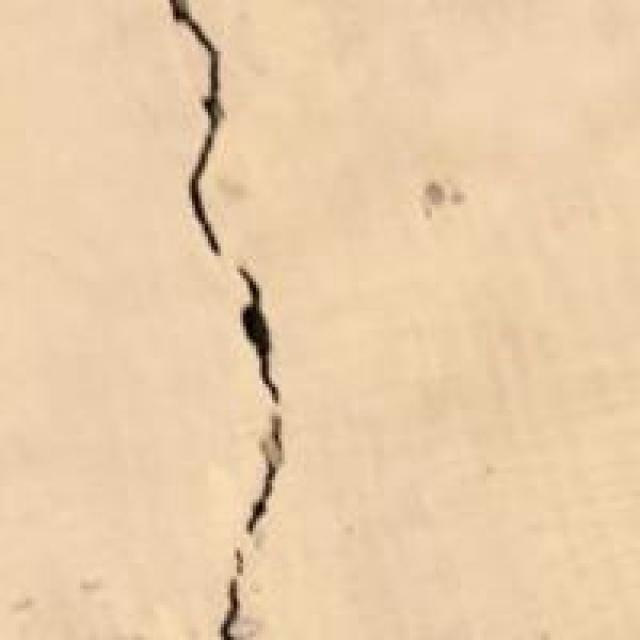SurfaceCrack: (126, 0, 308, 640)
